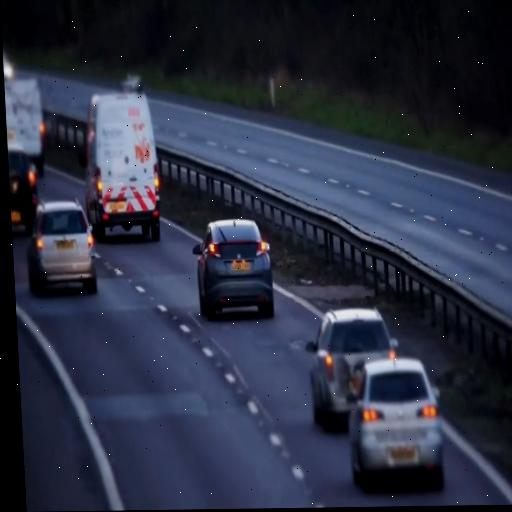car: (343, 357, 447, 494), (305, 306, 403, 430), (186, 208, 281, 326), (24, 199, 98, 294), (8, 146, 41, 234)
truck: (79, 78, 167, 252), (4, 74, 46, 182)
